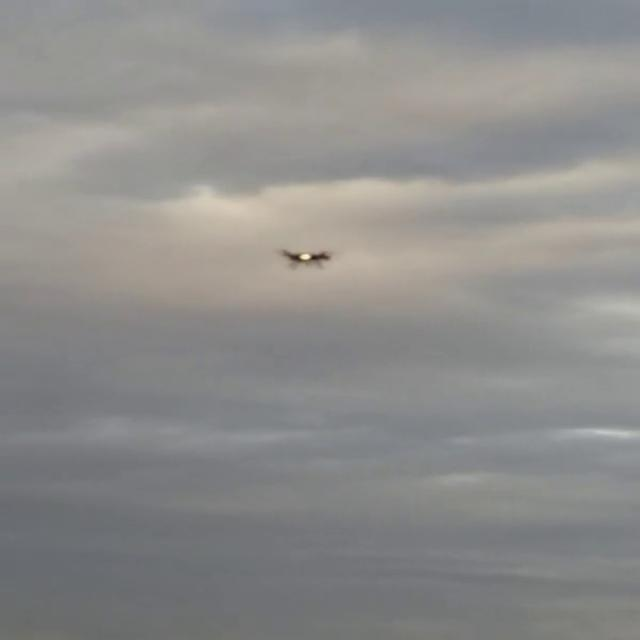drone: (276, 243, 342, 275)
